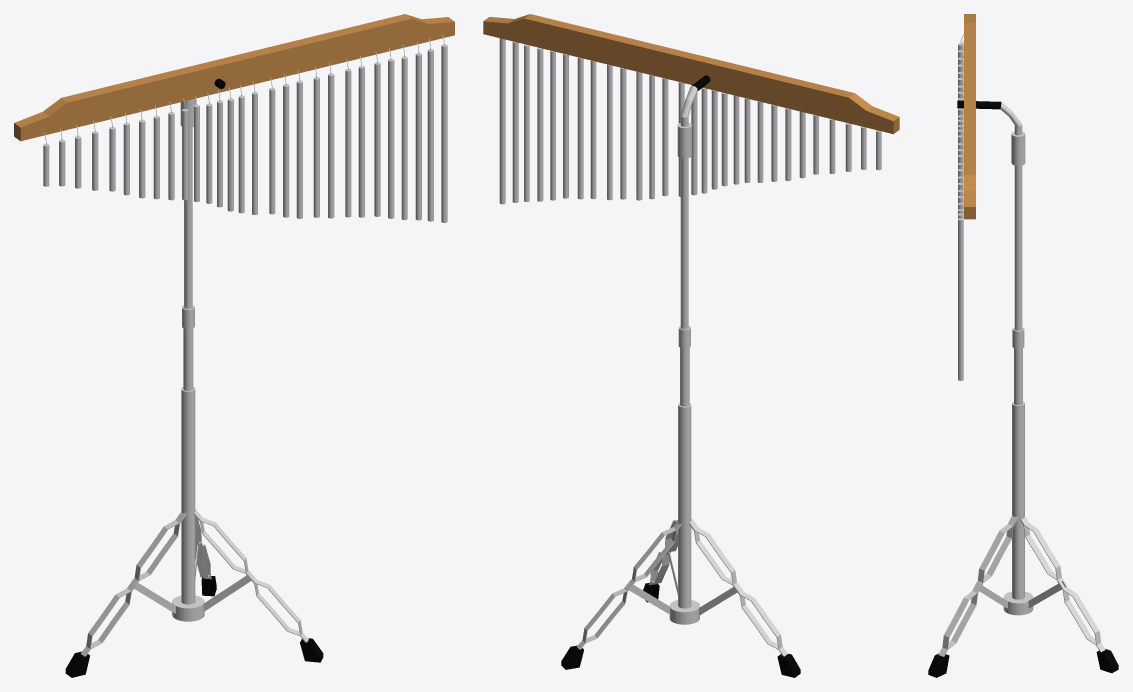
File: wind_chime.glb
3 renders of one model, left to right at view 1: azimuth 30°, elevation 25°; view 2: azimuth 150°, elevation 25°; view 3: azimuth 270°, elevation 25°, orthographic. The views are drawn at different scales.
Parts seen in each view (by area): view 1: object 3, object 1, Cube.001_3, Cube.002_5, object 8, object 73, object 71, object 69, object 67, object 65, object 63, object 61 (+12 smaller); view 2: object 3, object 1, object 8, Cube.001_3, Cube.003_6, object 73, object 71, object 67, object 61, object 59, object 69, object 55 (+11 smaller); view 3: object 1, object 3, object 8, Cube.002_5, Cube.003_6, object 73, object 6, object 15, object 16, object 10, object 11.
Part boxes in pixels (x1,y1,x2,y2): object 3: [14, 14, 454, 141]; object 1: [181, 387, 195, 604]; Cube.001_3: [80, 511, 186, 656]; Cube.002_5: [193, 509, 308, 642]; object 8: [184, 78, 225, 308]; object 73: [441, 44, 447, 222]; object 71: [427, 49, 433, 221]; object 69: [415, 53, 421, 220]; object 67: [401, 56, 407, 220]; object 65: [388, 59, 394, 218]; object 63: [374, 62, 380, 216]; object 61: [358, 66, 364, 217]; object 3: [483, 14, 899, 134]; object 1: [678, 403, 691, 608]; object 8: [680, 75, 710, 328]; Cube.001_3: [689, 519, 787, 656]; Cube.003_6: [577, 522, 681, 649]; object 73: [499, 38, 505, 204]; object 71: [512, 41, 518, 202]; object 67: [537, 47, 543, 201]; object 61: [577, 57, 583, 199]; object 59: [590, 60, 596, 199]; object 69: [524, 44, 529, 201]; object 55: [620, 67, 626, 199]; object 1: [1012, 401, 1024, 599]; object 3: [964, 14, 975, 219]; object 8: [957, 100, 1022, 329]; Cube.002_5: [938, 515, 1018, 656]; Cube.003_6: [1020, 516, 1105, 651]; object 73: [958, 218, 963, 380]; object 6: [1014, 327, 1022, 405]; object 15: [1003, 591, 1033, 615]; object 16: [1011, 131, 1025, 165]; object 10: [1096, 649, 1118, 673]; object 11: [928, 653, 949, 677].
Bounding box in the file's own units: 56.65 × 75.09 × 23.63.
